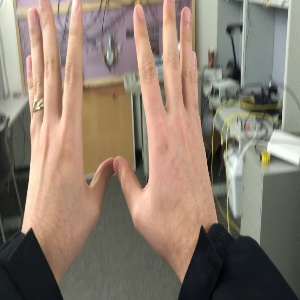hand: (113, 2, 218, 233), (25, 2, 112, 257)
